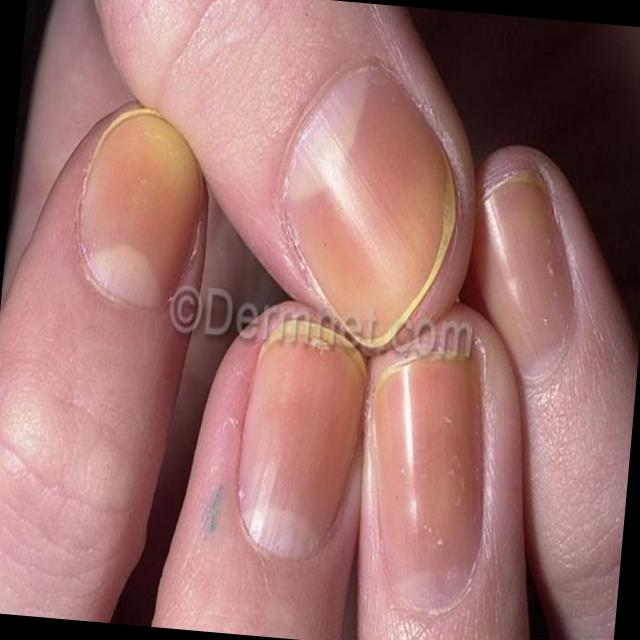Nail: (280, 65, 458, 349), (237, 320, 367, 561), (373, 349, 484, 610), (81, 109, 202, 307), (474, 173, 572, 374)
